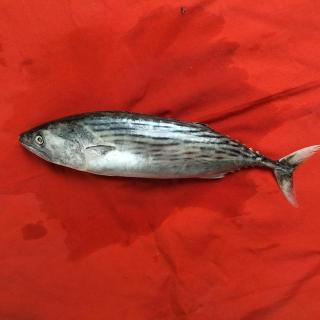Ikan: (7, 98, 319, 225)
